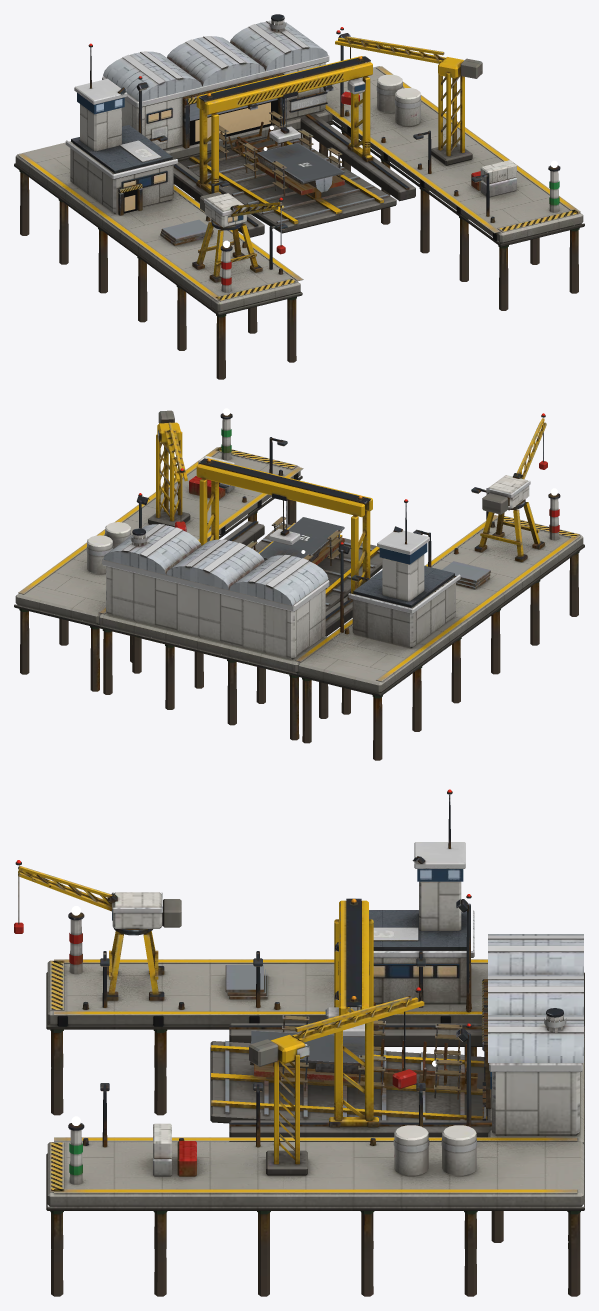
Rendered from syrd.allies.glb.
The picture shows the model from 3 angles, top to bottom: view 1: azimuth 30°, elevation 25°; view 2: azimuth 150°, elevation 25°; view 3: azimuth 270°, elevation 25°; orthographic projection. The views are drawn at different scales.
Visible parts, largest first — view 1: root_mesh, gantry_mesh, jib_mesh, gantryT_mesh; view 2: root_mesh, gantry_mesh, jib_mesh, gantryT_mesh; view 3: root_mesh, gantry_mesh, jib_mesh.
Part boxes in pixels (bbox=[...]): root_mesh: bbox=[14, 14, 584, 379]; gantry_mesh: bbox=[196, 56, 373, 193]; jib_mesh: bbox=[335, 30, 482, 104]; gantryT_mesh: bbox=[269, 91, 300, 143]; root_mesh: bbox=[14, 408, 584, 760]; gantry_mesh: bbox=[196, 458, 372, 599]; jib_mesh: bbox=[157, 410, 187, 531]; gantryT_mesh: bbox=[269, 493, 300, 545]; root_mesh: bbox=[14, 789, 584, 1296]; gantry_mesh: bbox=[325, 898, 378, 1127]; jib_mesh: bbox=[249, 987, 424, 1088].
Size of the model in its own units: 2.91 by 1.67 by 2.98.
3 materials, 1 textured.
